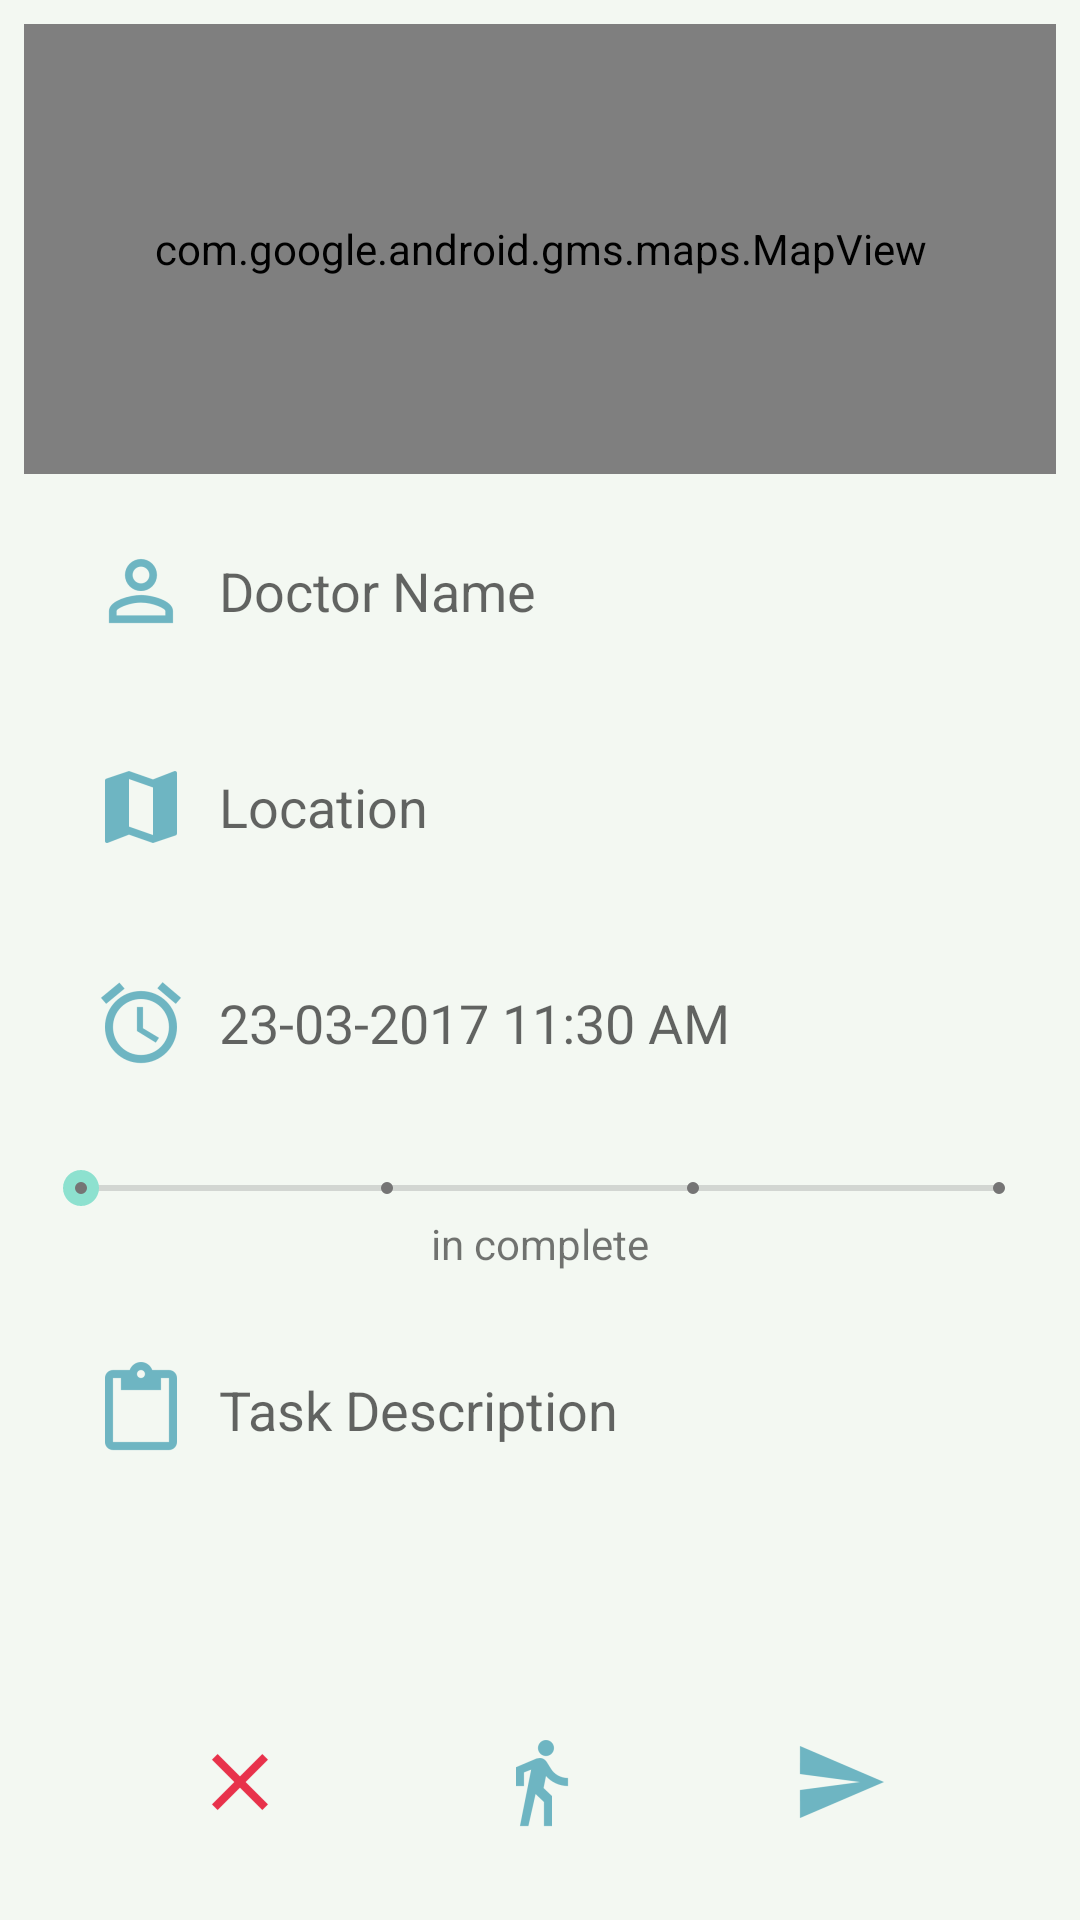

Named icons in this screenshot (1080px x 1920px) and their centers, (x=x, y=y):
cancel task: (x=240, y=1782)
